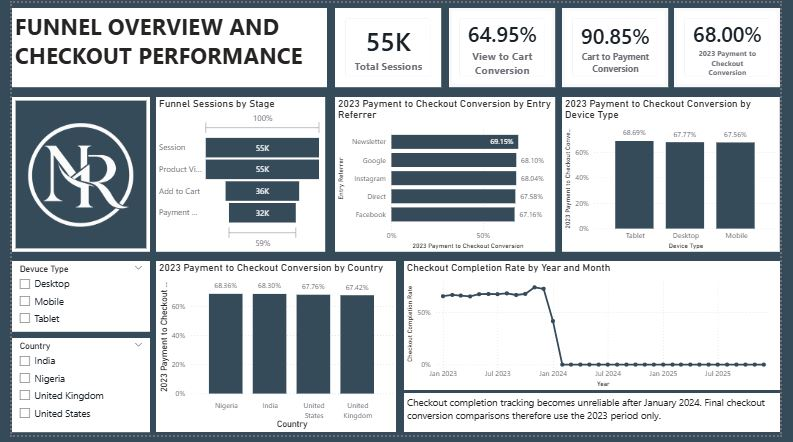

What the dashboard file says about the page in this screenshot:
{"tool":"powerbi","page":{"name":"Page 1","canvas":[1280,720],"ordinal":0},"visuals":[{"type":"cardVisual","fields":{"Data":["powerbi_sessions.Total Sessions"]},"box":[538.3,8.3,176.7,131.7],"z":0},{"type":"cardVisual","fields":{"Data":["powerbi_sessions.View to Cart Conversion"]},"box":[728.3,8.3,176.7,131.7],"z":1000},{"type":"cardVisual","fields":{"Data":["powerbi_sessions.2023 Payment to Checkout Conversion"]},"box":[1103.3,8.3,176.7,131.7],"z":2000},{"type":"cardVisual","fields":{"Data":["powerbi_sessions.Cart to Payment Conversion"]},"box":[916.7,8.3,176.7,131.7],"z":3000},{"type":"funnel","fields":{"Category":["Funnel Stages.Stage"],"Y":["Funnel Stages.Funnel Sessions"]},"box":[240,156.7,281.7,258.3],"z":4000},{"type":"lineChart","fields":{"Y":["powerbi_sessions.Checkout Completion Rate"],"Category":["powerbi_sessions.Checkout Month.Variation.Date Hierarchy.Year","powerbi_sessions.Checkout Month.Variation.Date Hierarchy.Month"]},"box":[653.3,430,626.7,215],"z":5000},{"type":"clusteredColumnChart","title":"2023 Payment to Checkout Conversion by Device Type","fields":{"Category":["powerbi_sessions.device_type"],"Y":["powerbi_sessions.2023 Payment to Checkout Conversion"]},"box":[916.7,156.7,363.3,258.3],"z":6000},{"type":"barChart","title":"2023 Payment to Checkout Conversion by Entry Referrer","fields":{"Category":["powerbi_sessions.entry_referrer"],"Y":["powerbi_sessions.2023 Payment to Checkout Conversion"]},"box":[538.3,156.7,366.7,258.3],"z":7000},{"type":"clusteredColumnChart","title":"2023 Payment to Checkout Conversion by Country","fields":{"Category":["powerbi_sessions.country"],"Y":["powerbi_sessions.2023 Payment to Checkout Conversion"]},"box":[240,430,400,285],"z":8000},{"type":"textbox","box":[653.3,650,626.7,65],"z":9000},{"type":"slicer","fields":{"Values":["powerbi_sessions.device_type"]},"box":[0,430,230,118.3],"z":10000},{"type":"slicer","fields":{"Values":["powerbi_sessions.country"]},"box":[0,558.3,230,156.7],"z":11000},{"type":"textbox","box":[0,8.3,525,131.7],"z":12000},{"type":"image","box":[0,190,230,191.7],"z":12001},{"type":"shape","box":[0,156.7,230,258.3],"z":12002}]}

Visuals, with their boxes in screenshot pixels (x1, y1, x2, y2), scaled from the page's 1280x720 canvas onto the 793x442 screenshot:
cardVisual - powerbi_sessions.Total Sessions: (x1=333, y1=5, x2=443, y2=86)
cardVisual - powerbi_sessions.View to Cart Conversion: (x1=451, y1=5, x2=561, y2=86)
cardVisual - powerbi_sessions.2023 Payment to Checkout Conversion: (x1=684, y1=5, x2=792, y2=86)
cardVisual - powerbi_sessions.Cart to Payment Conversion: (x1=568, y1=5, x2=677, y2=86)
funnel - Funnel Stages.Stage x Funnel Stages.Funnel Sessions: (x1=149, y1=96, x2=323, y2=255)
lineChart - powerbi_sessions.Checkout Completion Rate x powerbi_sessions.Checkout Month.Variation.Date Hierarchy.Year: (x1=405, y1=264, x2=792, y2=396)
"2023 Payment to Checkout Conversion by Device Type" clusteredColumnChart: (x1=568, y1=96, x2=792, y2=255)
"2023 Payment to Checkout Conversion by Entry Referrer" barChart: (x1=333, y1=96, x2=561, y2=255)
"2023 Payment to Checkout Conversion by Country" clusteredColumnChart: (x1=149, y1=264, x2=396, y2=439)
textbox: (x1=405, y1=399, x2=792, y2=439)
slicer - powerbi_sessions.device_type: (x1=0, y1=264, x2=142, y2=337)
slicer - powerbi_sessions.country: (x1=0, y1=343, x2=142, y2=439)
textbox: (x1=0, y1=5, x2=325, y2=86)
image: (x1=0, y1=117, x2=142, y2=234)
shape: (x1=0, y1=96, x2=142, y2=255)
